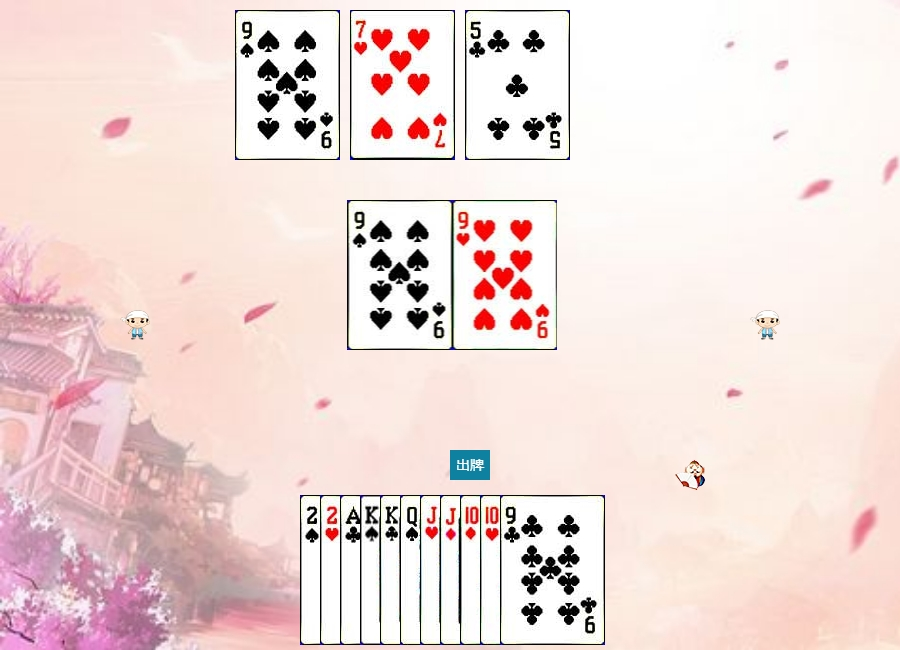10~1: (460, 495, 565, 645)
10~3: (480, 495, 585, 645)
11~1: (440, 495, 545, 645)
11~3: (420, 495, 525, 645)
12~4: (400, 495, 505, 645)
13~2: (380, 495, 485, 645)
13~4: (360, 495, 465, 645)
14~2: (340, 495, 445, 645)
15~3: (320, 495, 425, 645)
15~4: (300, 495, 405, 645)
5~2: (465, 10, 570, 160)
7~3: (350, 10, 455, 160)
9~2: (500, 495, 605, 645)
9~3: (453, 200, 558, 350)
9~4: (235, 10, 340, 160), (348, 200, 453, 350)
